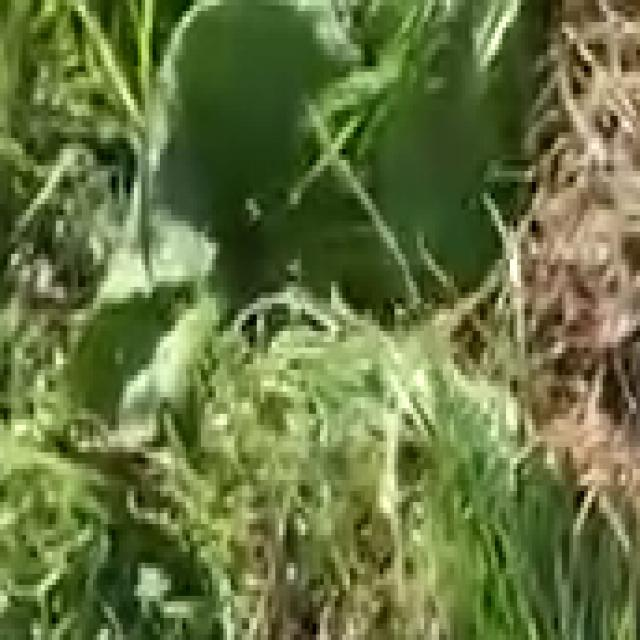organic waste: (78, 0, 555, 486)
